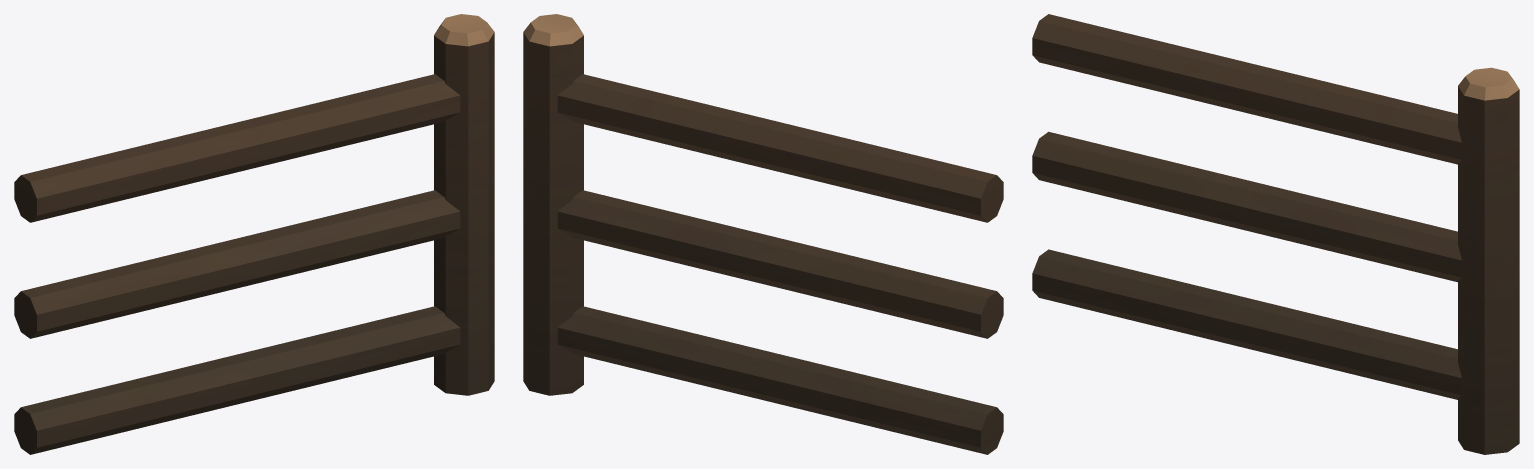
File: Fence_Post.obj
3 renders of one model, left to right at view 1: azimuth 30°, elevation 25°; view 2: azimuth 150°, elevation 25°; view 3: azimuth 330°, elevation 25°, orthographic.
Visible parts, largest first — view 1: Fence_Post; view 2: Fence_Post; view 3: Fence_Post.
Boxes of the visible parts, left/top/right/bottom form: Fence_Post: left=14, top=14, right=494, bottom=454; Fence_Post: left=523, top=14, right=1003, bottom=454; Fence_Post: left=1032, top=14, right=1519, bottom=454.
Size of the model in its own units: 1.49 by 1.11 by 0.1583.
